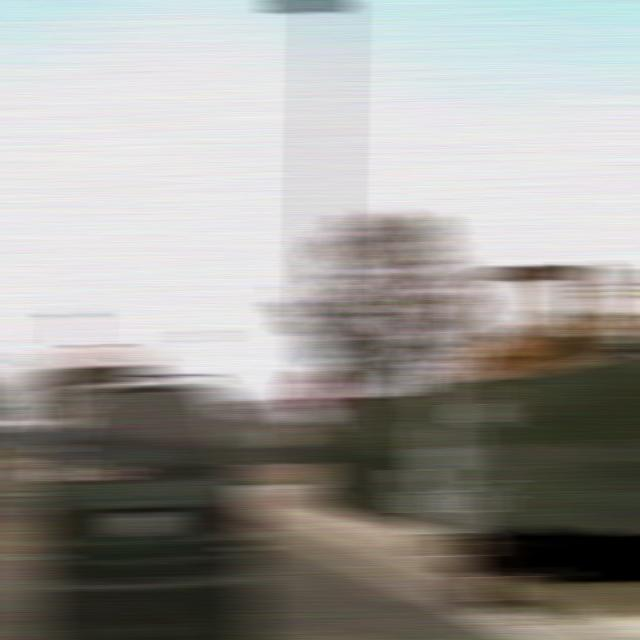stop_sign: (293, 366, 346, 411)
